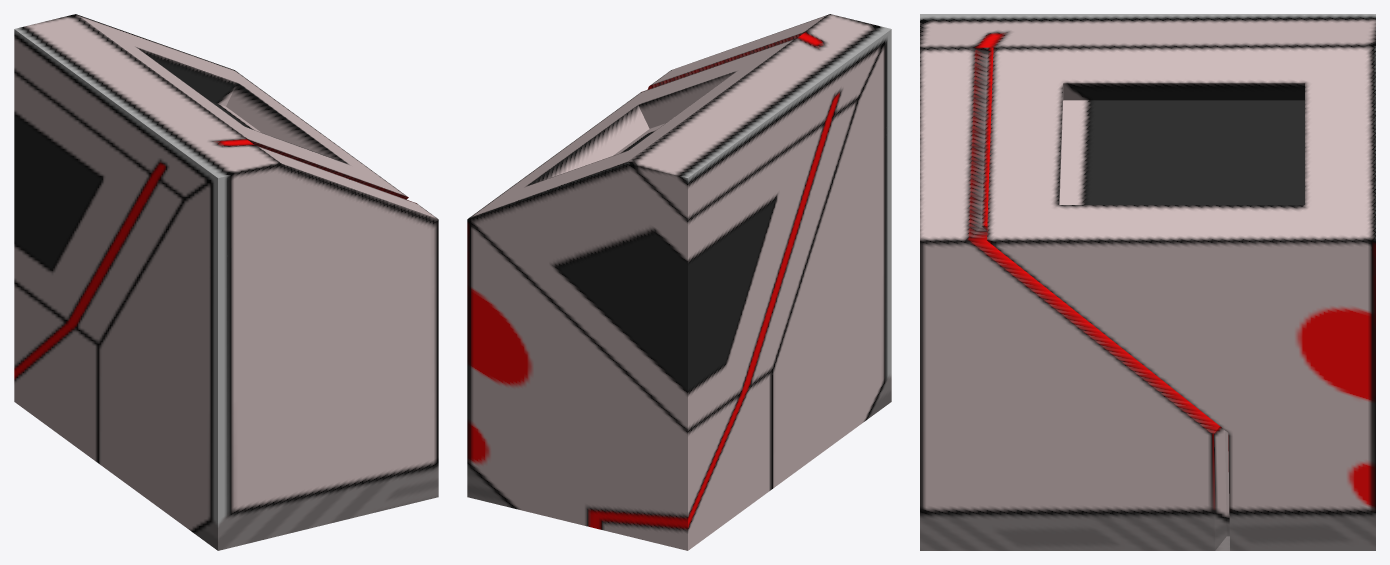
3 renders of one model, left to right at view 1: azimuth 30°, elevation 25°; view 2: azimuth 150°, elevation 25°; view 3: azimuth 270°, elevation 25°, orthographic. The views are drawn at different scales.
Parts seen in each view (by area): view 1: Cube.011; view 2: Cube.011; view 3: Cube.011.
Part boxes in pixels (<box>): Cube.011: <box>14,14,438,550</box>; Cube.011: <box>467,14,891,550</box>; Cube.011: <box>920,14,1375,550</box>.
Bounding box in the file's own units: 69 × 112 × 110.
1 material, 1 textured.
